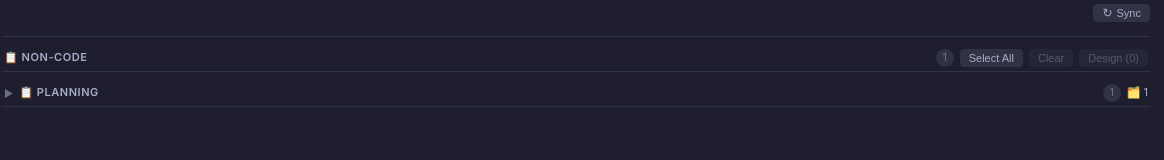
Scenario: TaskList › non-code ready tasks fold into the Non-code type section, not the Ready section
Click the button with test id "type-card-header-planning". click: (59, 92)
box: [2,80,1150,107]
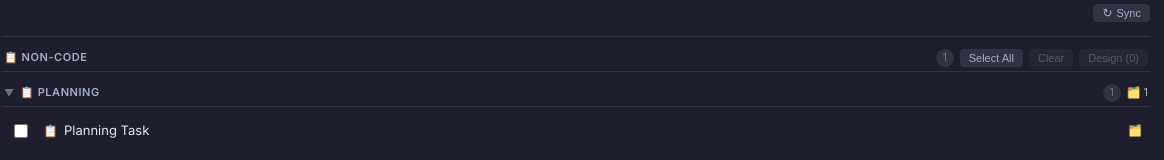
Result: the text "Planning Task" is shown at [64,122,149,138]
